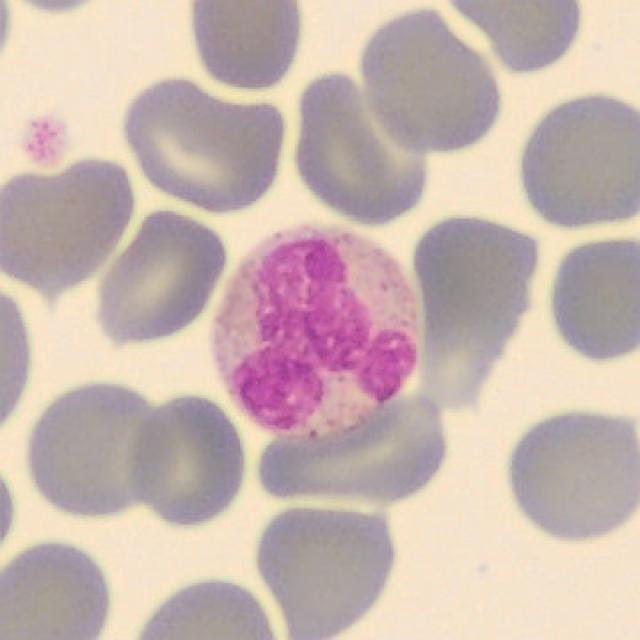Neutrofilo segmentado: (206, 220, 425, 443)
